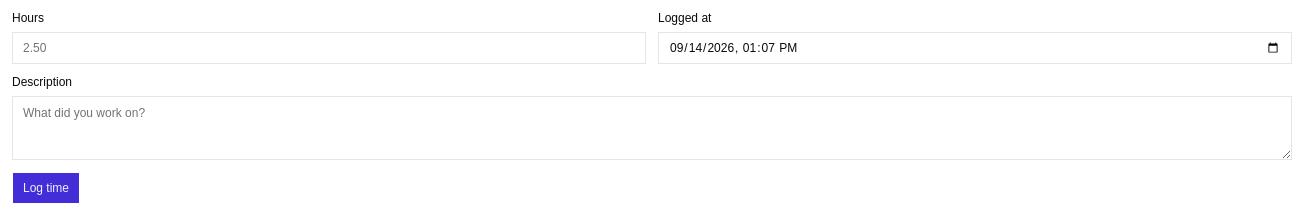
TimeLogForm › disables submit while pending
Type "2.00" into the field labelled "Hours" at point(329, 48), box x1=12 y1=32 x2=646 y2=64
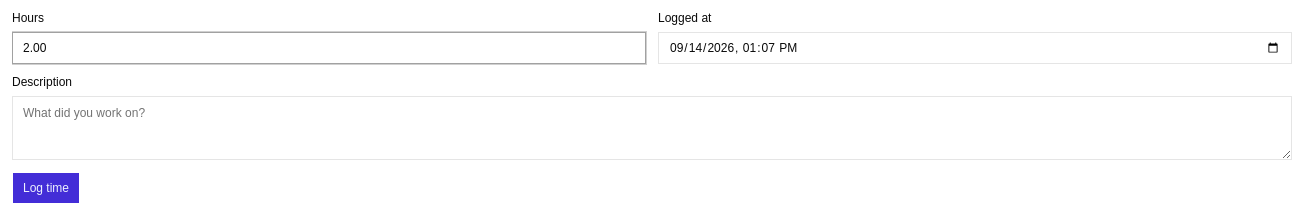
Click the button "Log time" at point(46, 188), box x1=12 y1=172 x2=80 y2=204
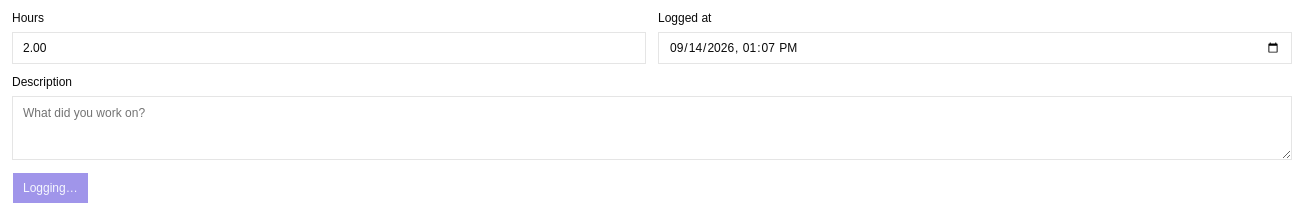
Check: the button "Logging…" is disabled, box x1=12 y1=172 x2=89 y2=204
